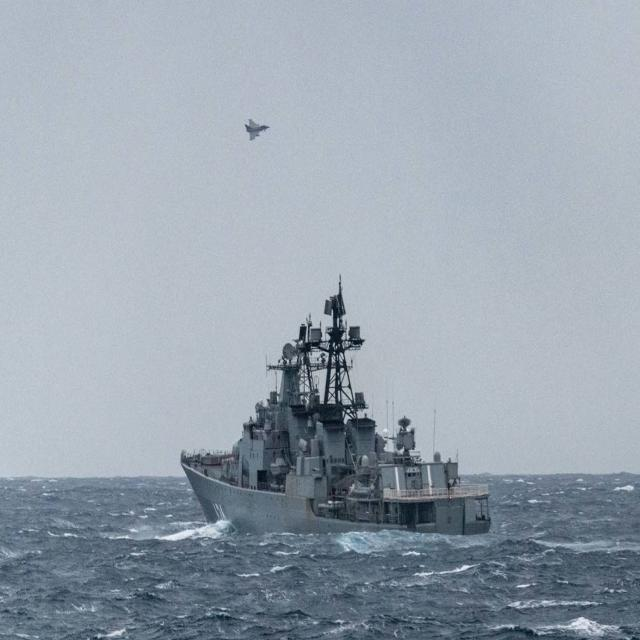MIL_Plane: (244, 118, 271, 142)
